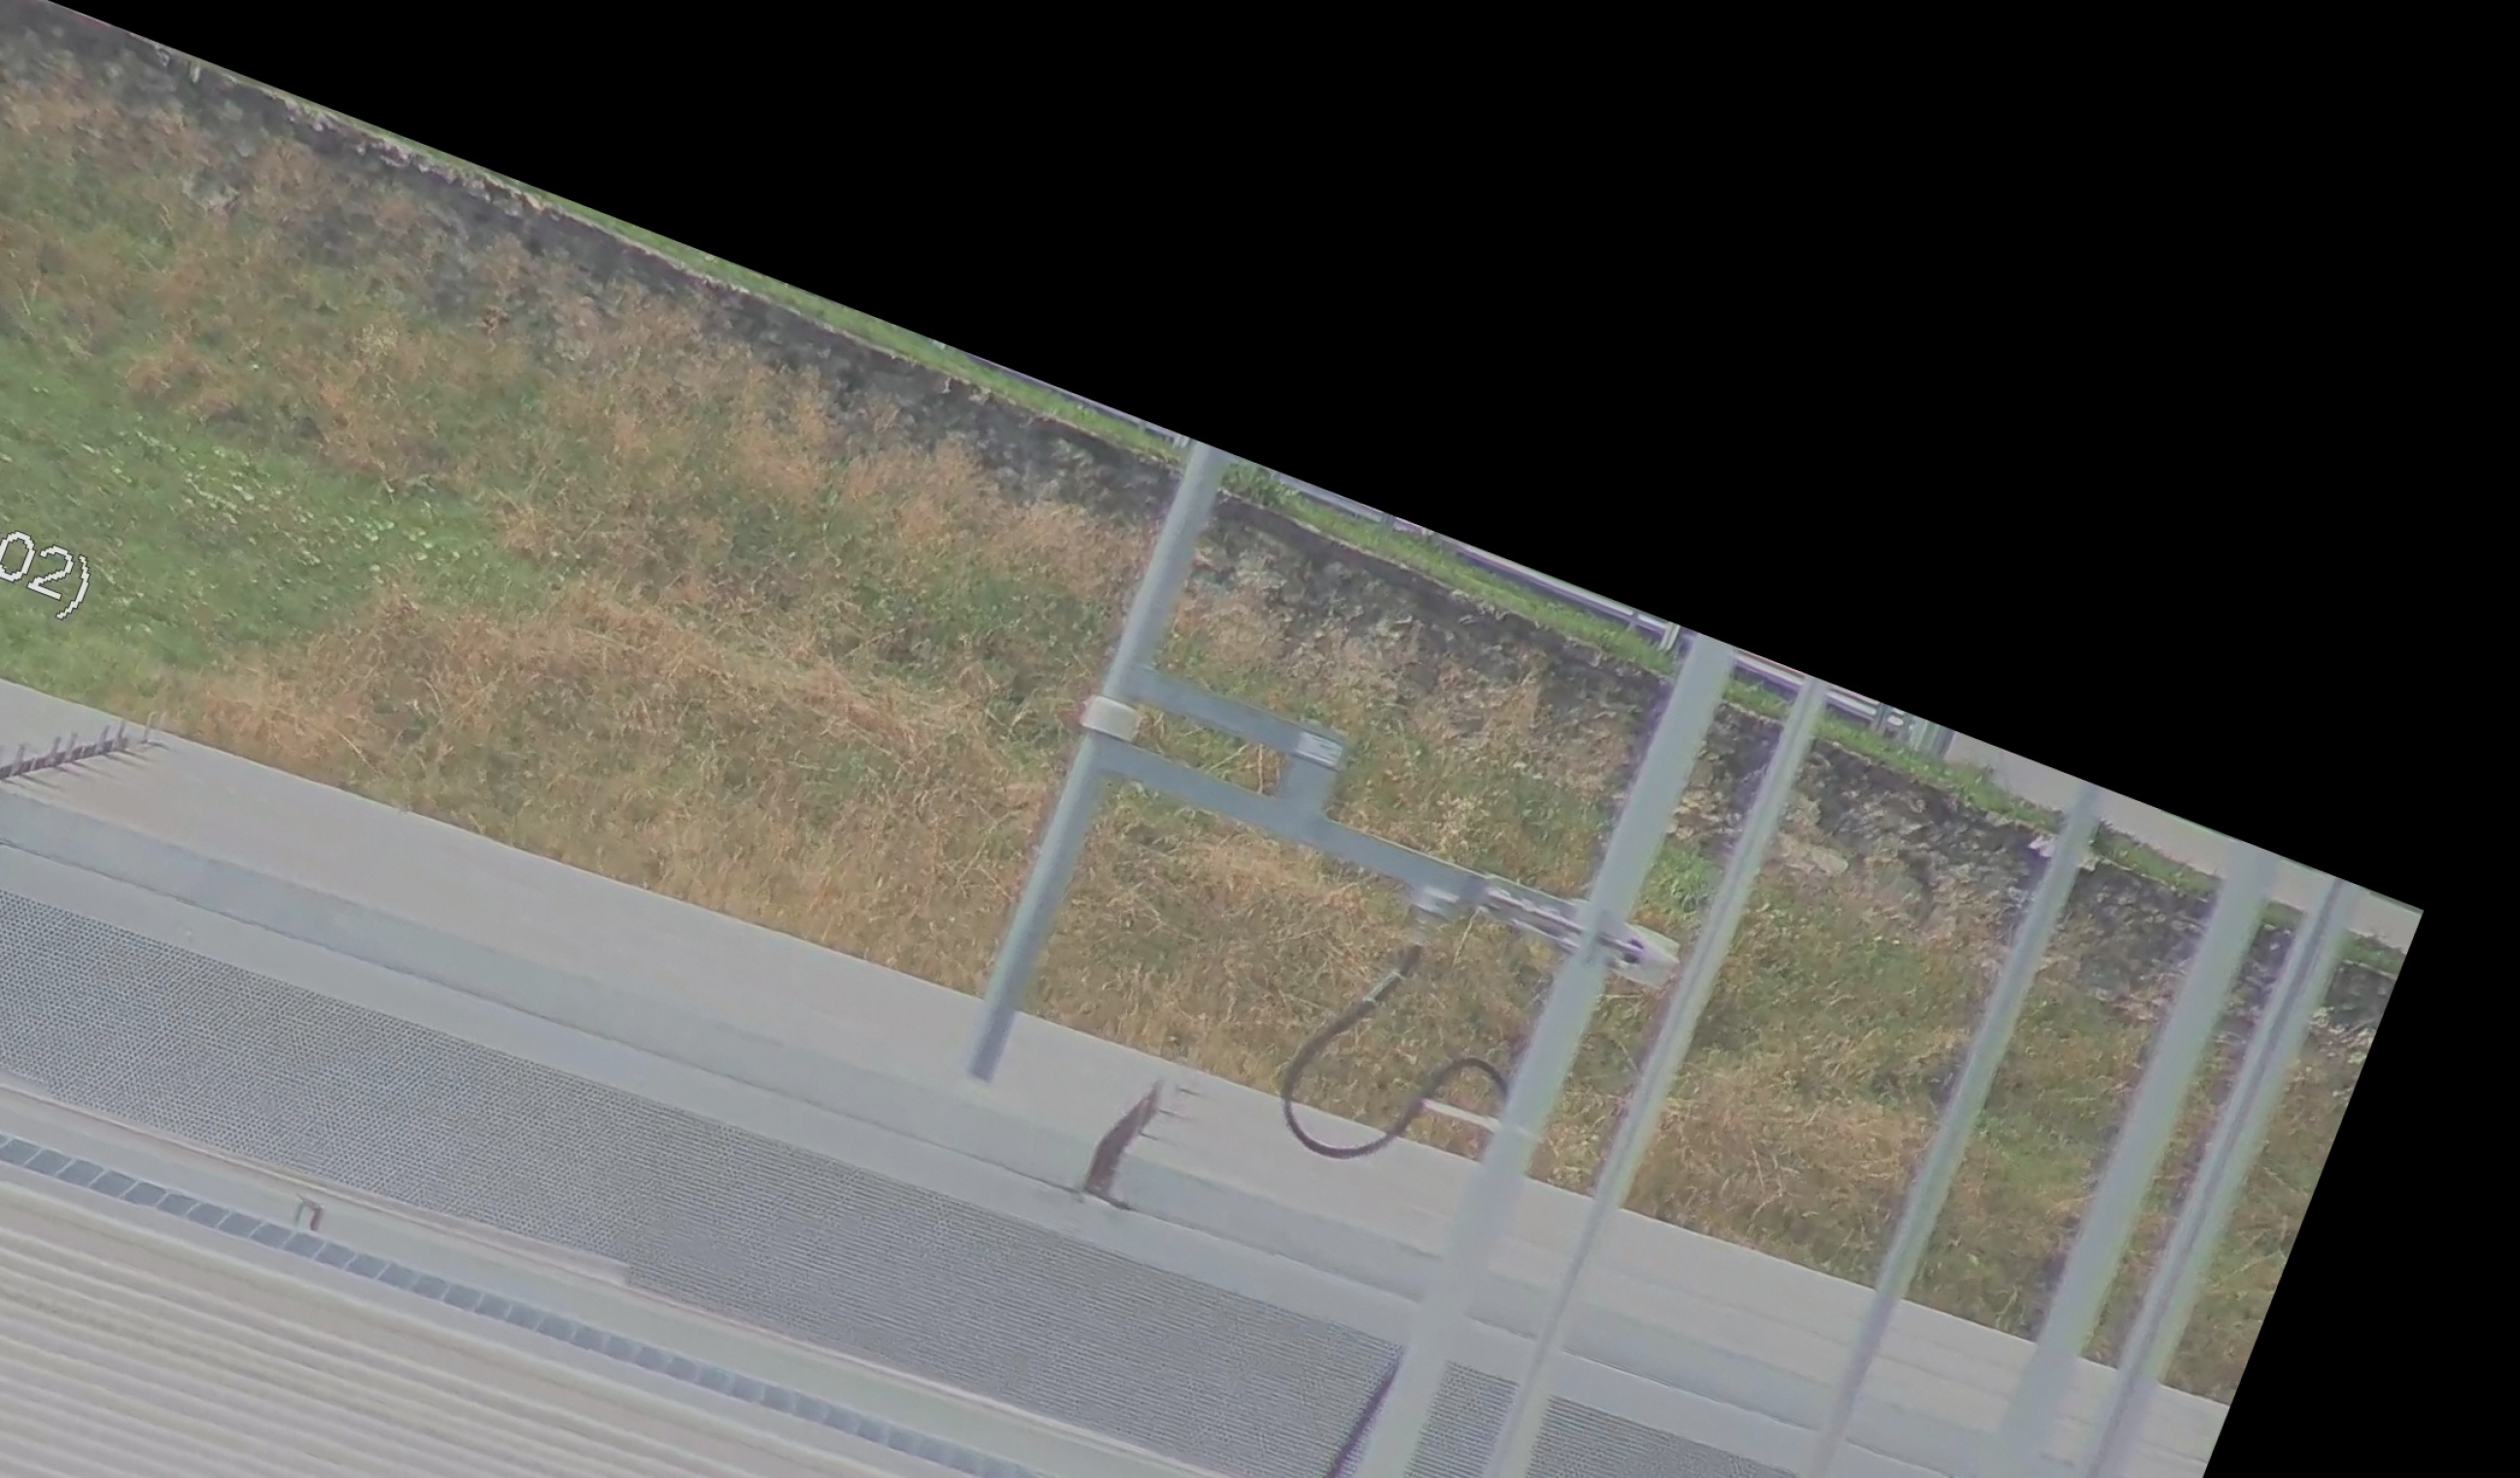Other: (1071, 1047, 1213, 1226)
